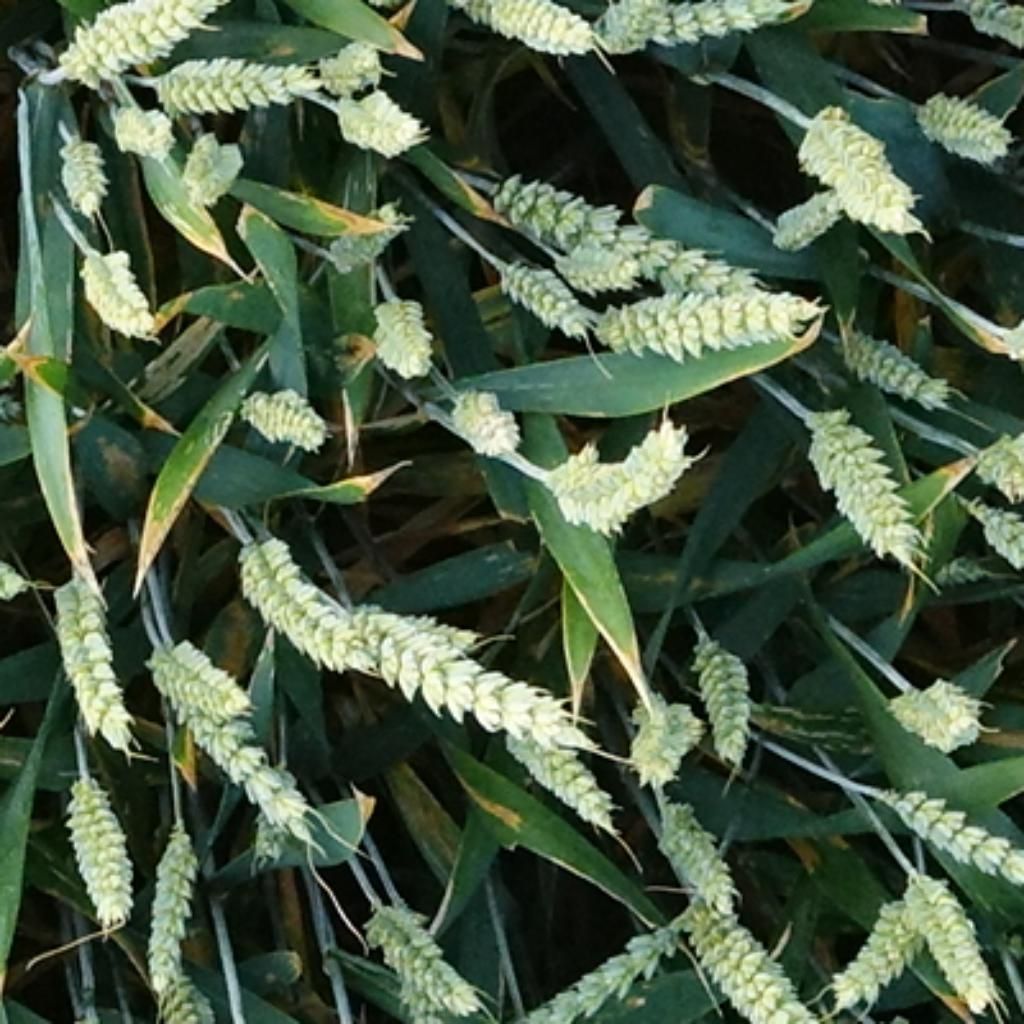0-0: (307, 578, 616, 785), (140, 634, 312, 832), (491, 174, 770, 294), (453, 686, 622, 826), (593, 281, 826, 378), (230, 517, 376, 668), (514, 899, 685, 1024), (793, 394, 921, 558), (537, 412, 701, 537), (785, 92, 916, 230), (359, 887, 490, 1024), (692, 893, 823, 1024), (43, 555, 133, 732), (45, 0, 221, 88), (143, 622, 261, 752), (136, 828, 213, 1024), (880, 780, 1024, 883), (826, 888, 929, 1021), (901, 865, 998, 1006), (53, 762, 140, 919), (151, 40, 309, 112), (645, 788, 739, 901), (829, 309, 947, 399), (691, 624, 760, 773), (893, 670, 1003, 755), (71, 230, 158, 335), (488, 245, 591, 330), (440, 0, 601, 51), (622, 678, 701, 780), (921, 89, 1024, 166), (550, 235, 663, 302), (230, 371, 332, 445), (337, 89, 437, 161), (437, 371, 527, 450), (363, 281, 437, 371), (765, 174, 844, 256), (322, 199, 412, 268), (640, 0, 793, 38), (51, 122, 112, 207), (176, 128, 243, 199), (967, 422, 1024, 504), (243, 791, 302, 870), (104, 92, 174, 153), (314, 33, 386, 92), (962, 496, 1024, 563), (949, 0, 1024, 53), (596, 0, 675, 46), (924, 552, 993, 591), (832, 0, 980, 2)
